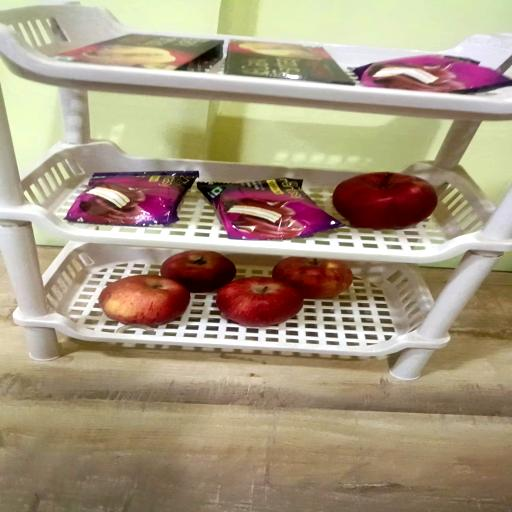Apple: (332, 174, 438, 232), (98, 276, 189, 326), (218, 278, 304, 328), (273, 258, 354, 300), (163, 251, 238, 293)
Choco Fills: (55, 34, 221, 72), (224, 40, 353, 84)
Choco Pie: (200, 181, 344, 242), (65, 174, 198, 228), (354, 54, 511, 94)
